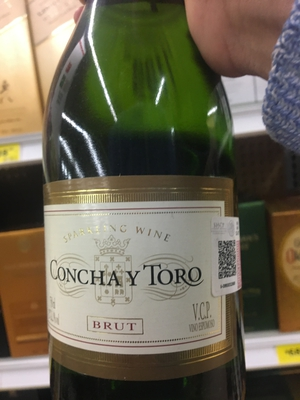brut: (39, 8, 257, 400)
